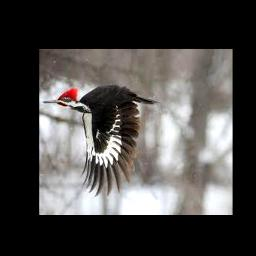Woodpecker: (42, 86, 158, 195)
